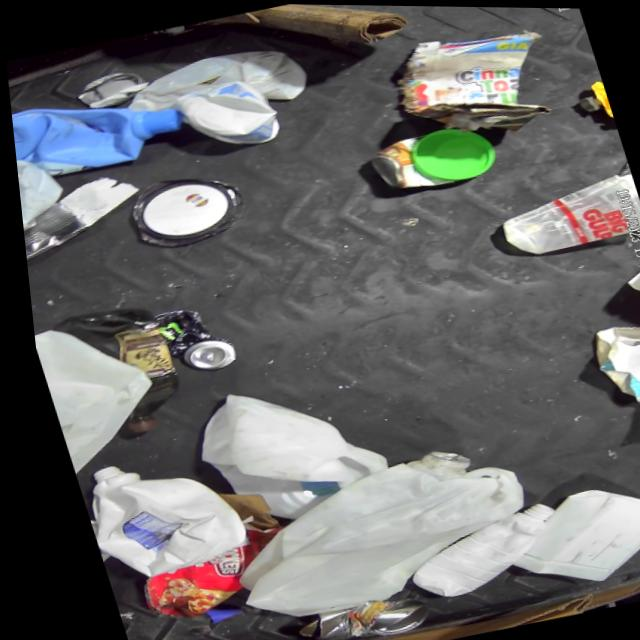can: (169, 363, 392, 536), (14, 168, 154, 270), (142, 297, 235, 379), (277, 589, 422, 640), (357, 131, 429, 198), (67, 65, 152, 113)
milk_jug: (190, 429, 542, 634), (61, 440, 245, 587), (25, 310, 169, 477), (103, 34, 317, 135), (480, 471, 640, 599), (12, 151, 71, 231)
non_white_jug: (6, 76, 195, 196), (40, 298, 185, 446)
